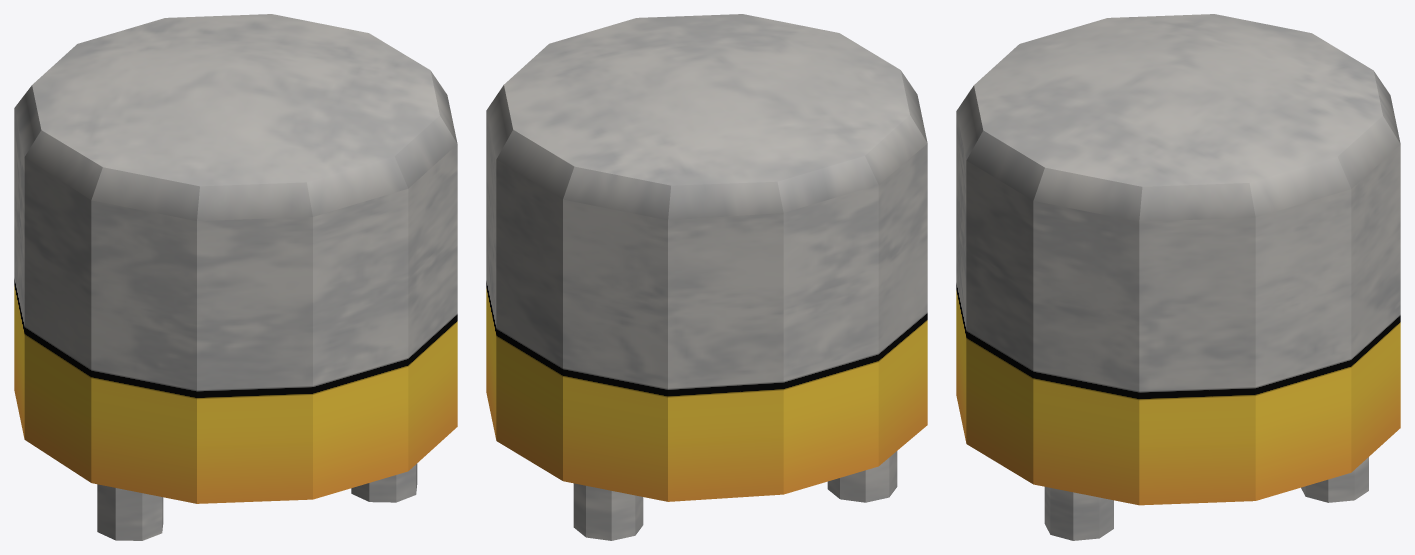
File: Refuel_02.fbx
3 views of the same model, side by side, from view 1: azimuth 30°, elevation 25°; view 2: azimuth 150°, elevation 25°; view 3: azimuth 270°, elevation 25° (orthographic).
Parts seen in each view (by area): view 1: Refuel_02; view 2: Refuel_02; view 3: Refuel_02.
Boxes of the visible parts, left/top/right/bottom form: Refuel_02: left=14, top=14, right=457, bottom=540; Refuel_02: left=486, top=14, right=927, bottom=540; Refuel_02: left=956, top=14, right=1400, bottom=540.
Size of the model in its own units: 14.39 by 14.52 by 14.39.
Materials: 1 (1 with a texture image).
